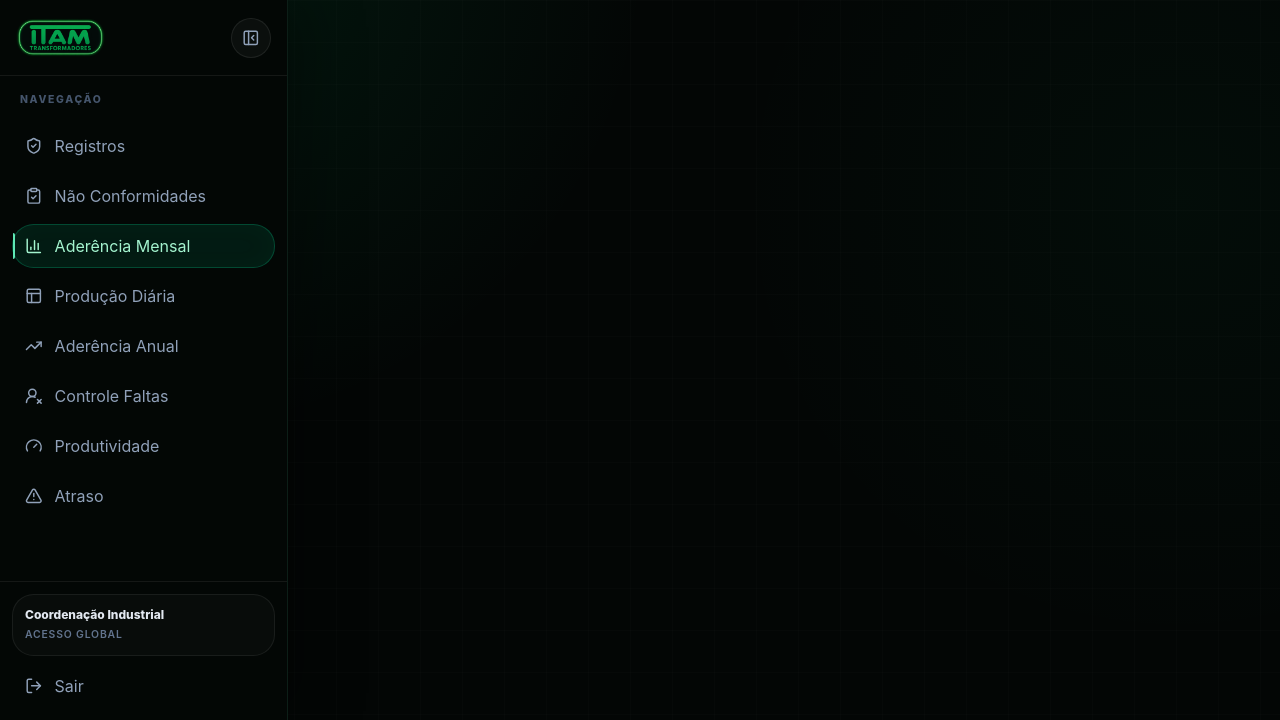
Test case: Header compartilhado › permite recolher e expandir a barra lateral
Click the button named "Recolher barra lateral": [251, 38] box [231,18,271,58]
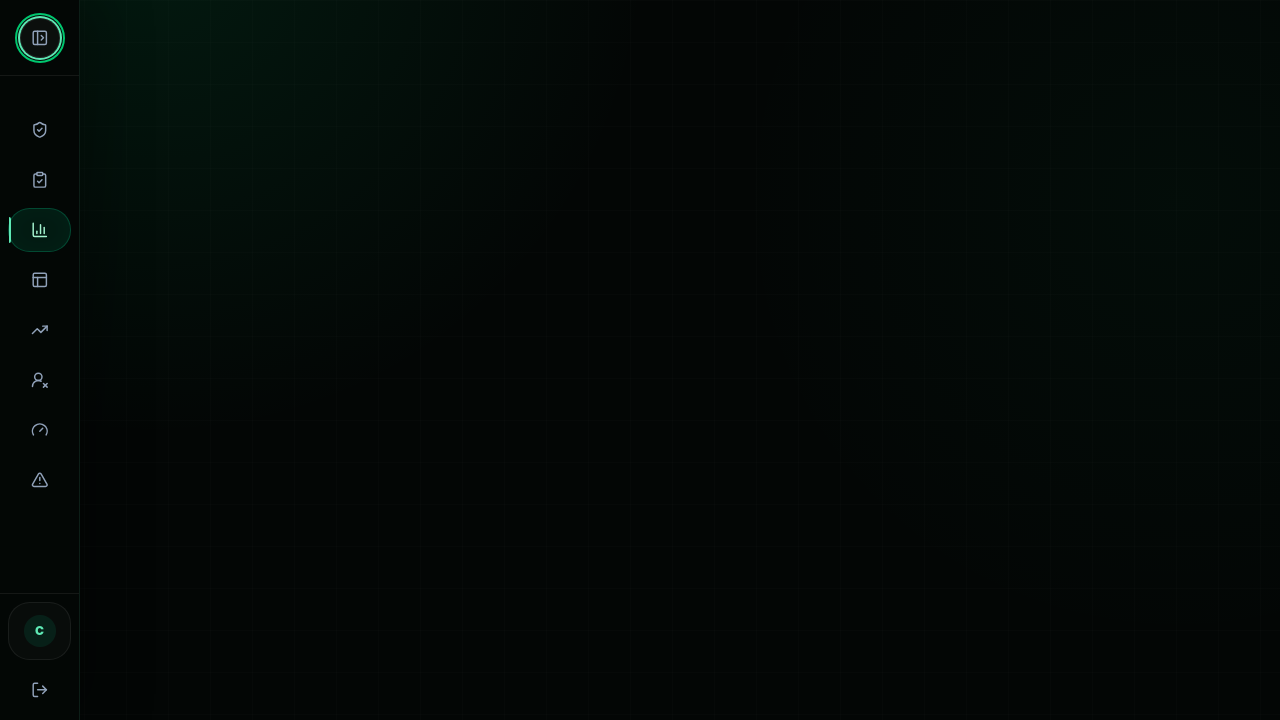
Expected: the button named "Expandir barra lateral" is collapsed
Click the button named "Expandir barra lateral": [40, 38] box [20,18,60,58]
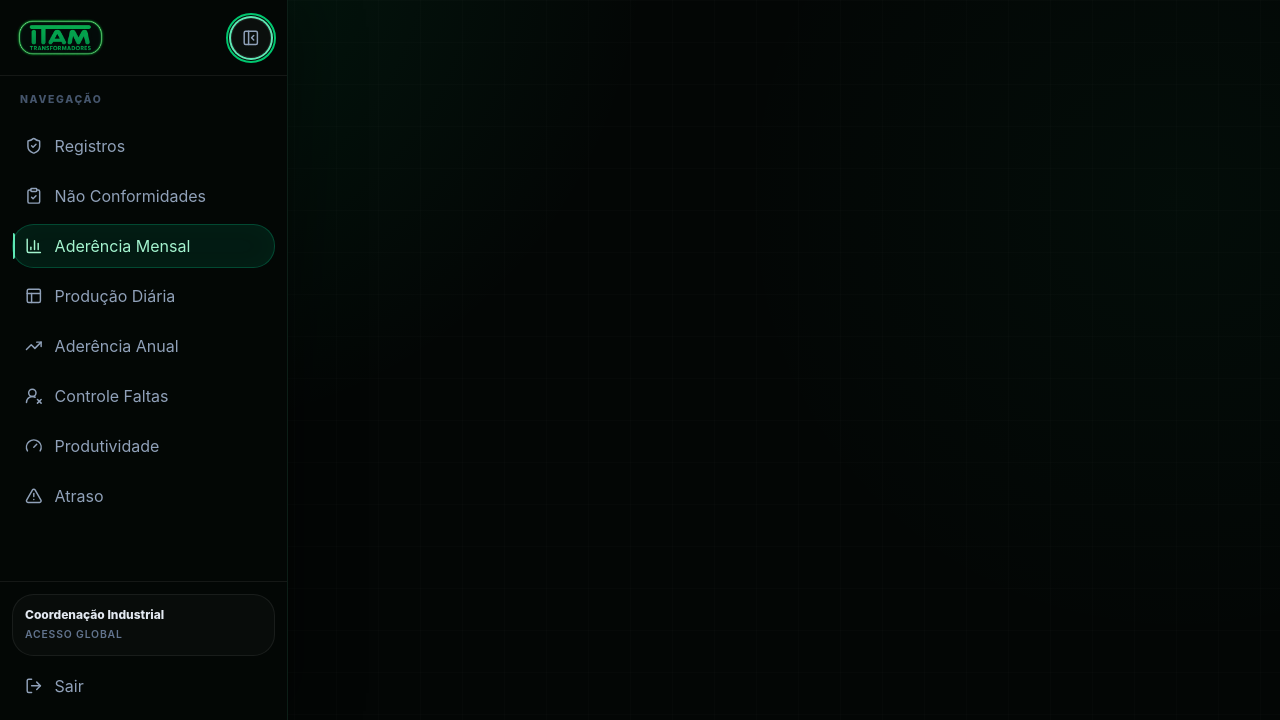
Expected: the button named "Recolher barra lateral" is expanded, [231,18,271,58]
